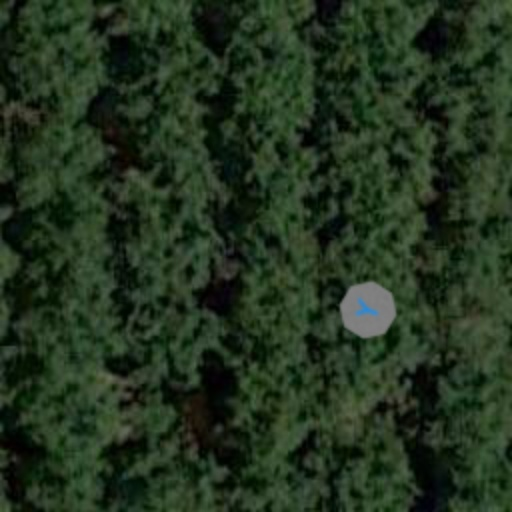octagon: (334, 276, 402, 344)
